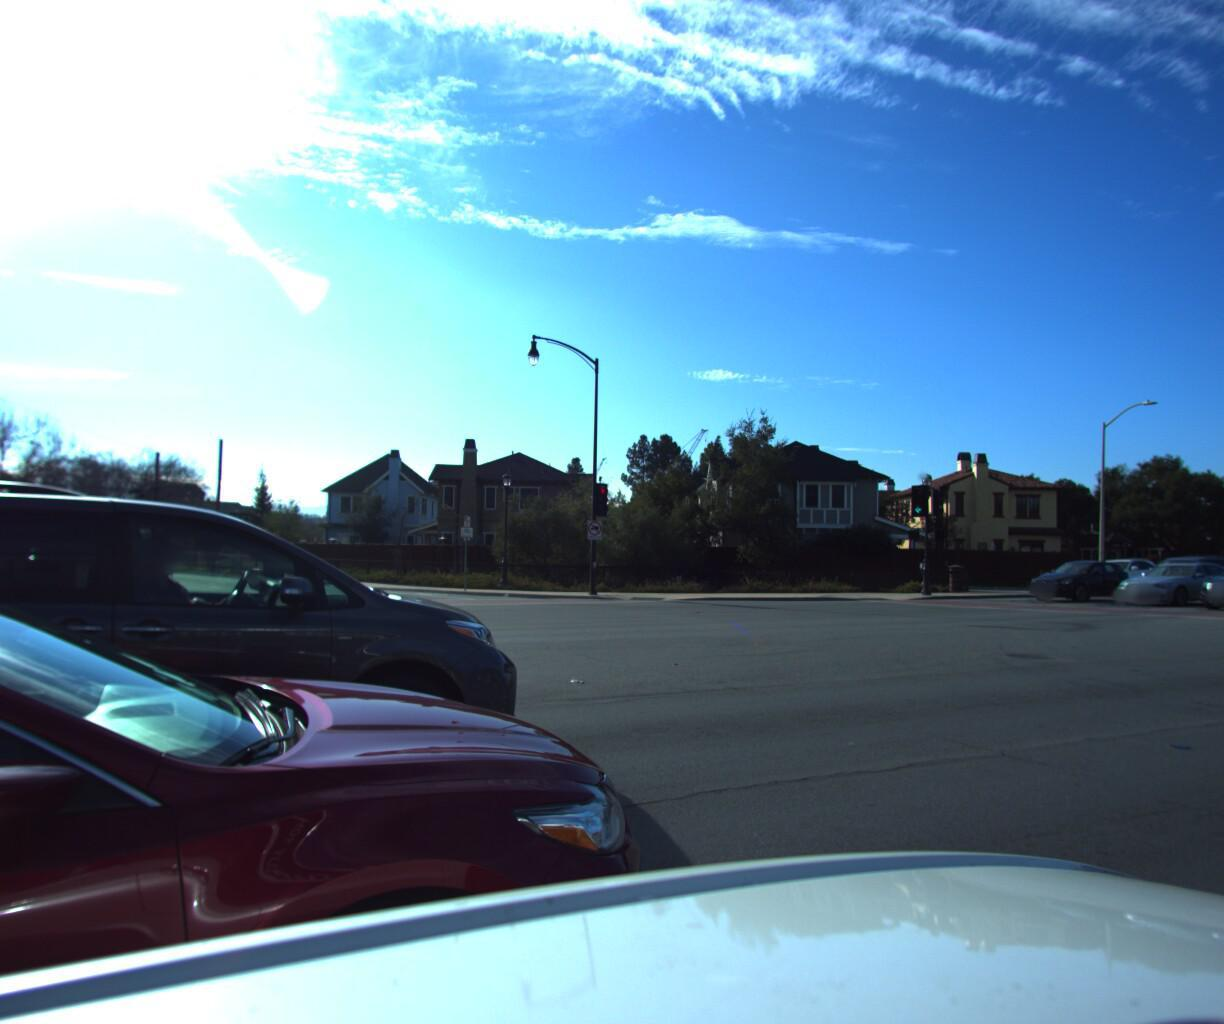car: (1101, 554, 1224, 604), (1017, 555, 1138, 600), (1121, 548, 1224, 597), (1063, 550, 1168, 595), (1182, 551, 1224, 614)
